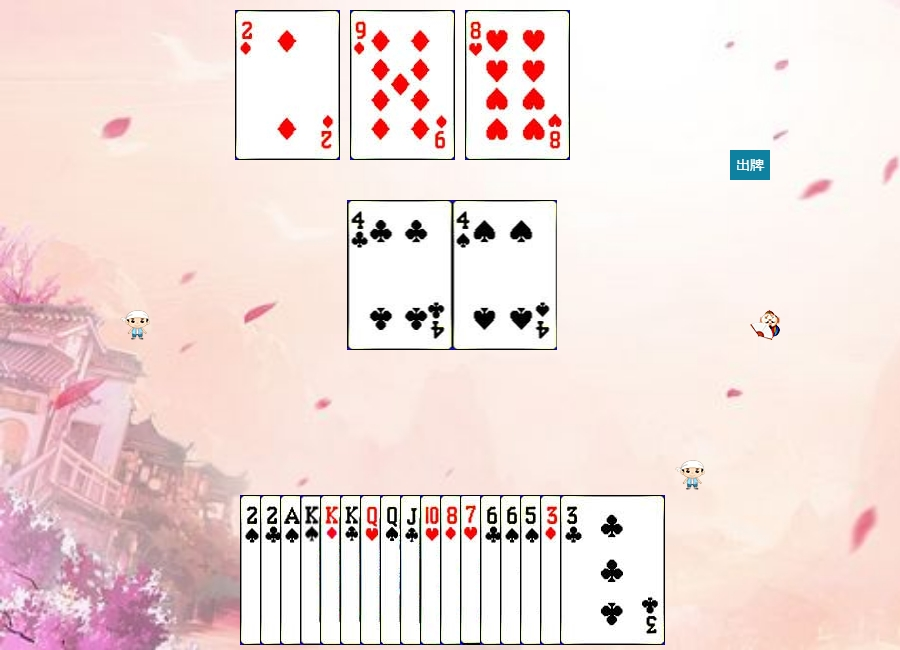10~3: (420, 495, 525, 645)
11~2: (400, 495, 505, 645)
12~3: (360, 495, 465, 645)
12~4: (380, 495, 485, 645)
13~1: (320, 495, 425, 645)
13~2: (340, 495, 445, 645)
13~4: (300, 495, 405, 645)
14~4: (280, 495, 385, 645)
15~1: (235, 10, 340, 160)
15~2: (260, 495, 365, 645)
15~4: (240, 495, 345, 645)
3~1: (540, 495, 645, 645)
3~2: (560, 495, 665, 645)
4~2: (348, 200, 453, 350)
4~4: (453, 200, 558, 350)
5~4: (520, 495, 625, 645)
6~2: (480, 495, 585, 645)
6~4: (500, 495, 605, 645)
7~3: (460, 495, 565, 645)
8~1: (440, 495, 545, 645)
8~3: (465, 10, 570, 160)
9~1: (350, 10, 455, 160)
